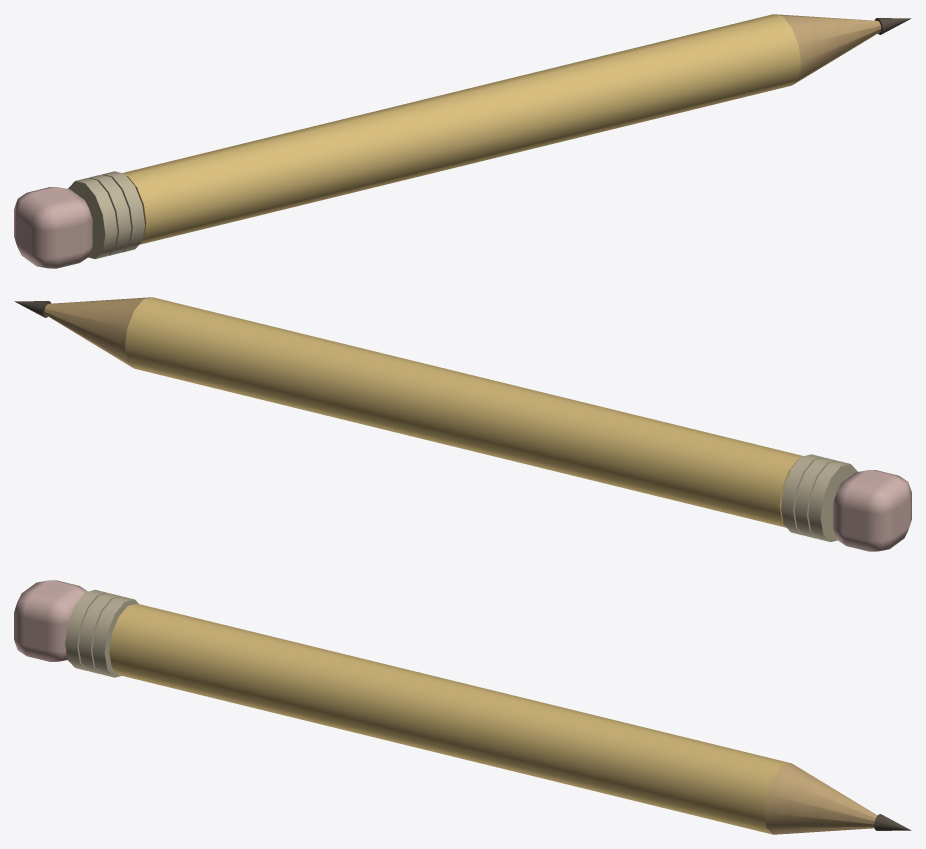
Rendered from product-off.pencil.glb.
3 renders of one model, top to bottom at view 1: azimuth 30°, elevation 25°; view 2: azimuth 150°, elevation 25°; view 3: azimuth 330°, elevation 25°, orthographic.
Visible parts, largest first — view 1: product-off.pencil; view 2: product-off.pencil; view 3: product-off.pencil.
Boxes of the visible parts, x1,y1,x2,y2 form: product-off.pencil: (14, 14, 911, 268); product-off.pencil: (14, 297, 911, 551); product-off.pencil: (14, 580, 911, 834).
Bounding box in the file's own units: 0.5835 × 0.046 × 0.046.
5 materials, 2 textured.
